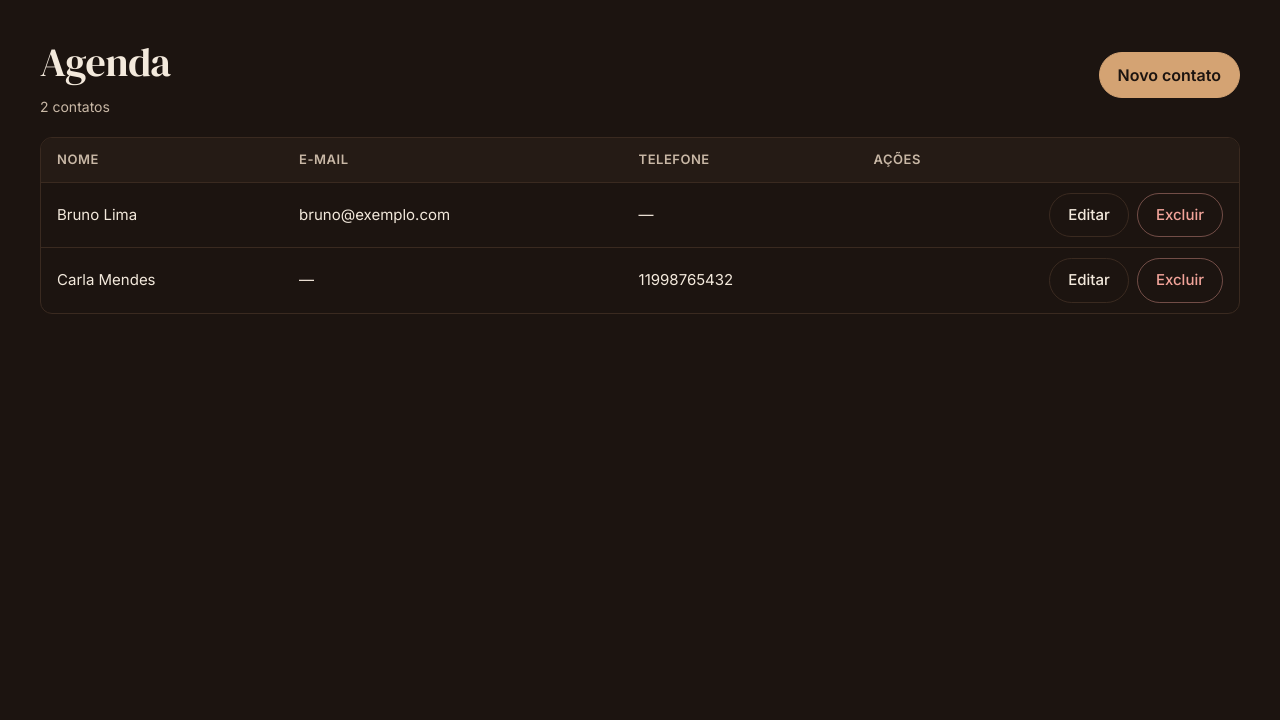
Test: ContactsPage › ContactsPage_ReopenAfterError_StartsClean
This screenshot has width=1280, height=720.
Expected: the table is shown, [41,138,1239,312]
Click the button "Novo contato" at (1169, 74), box [1098,52,1240,98]
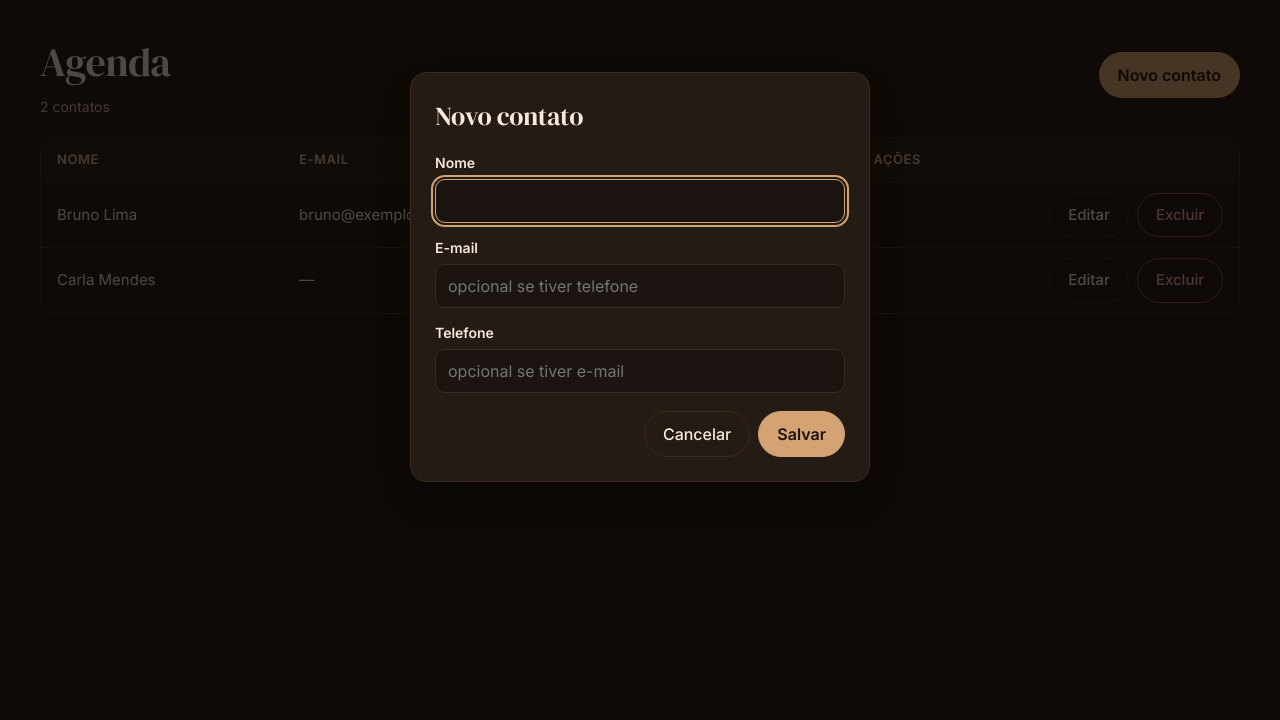
Type "Outro Bruno" into the field labelled "Nome" at (640, 201), box [435,179,845,223]
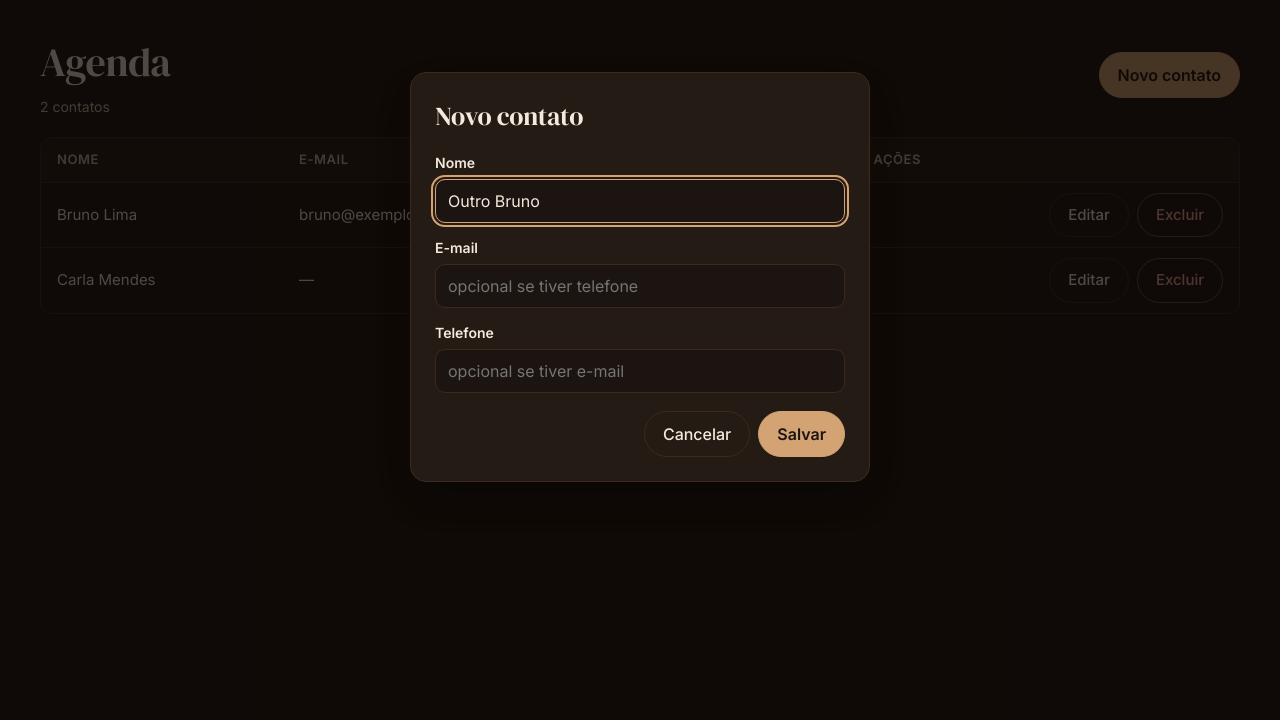
Type "bruno@exemplo.com" into the field labelled "E-mail" at (640, 286), box [435,264,845,308]
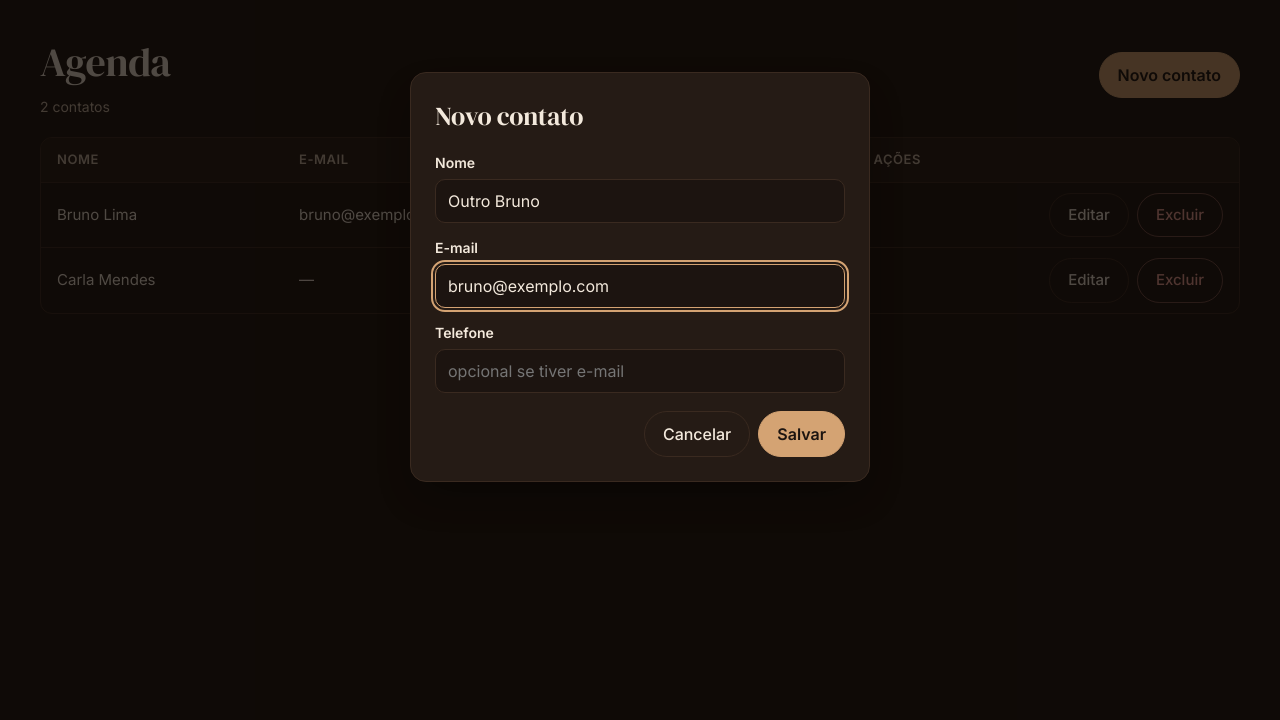
Click the button "Salvar" at (802, 434), box [758,411,845,457]
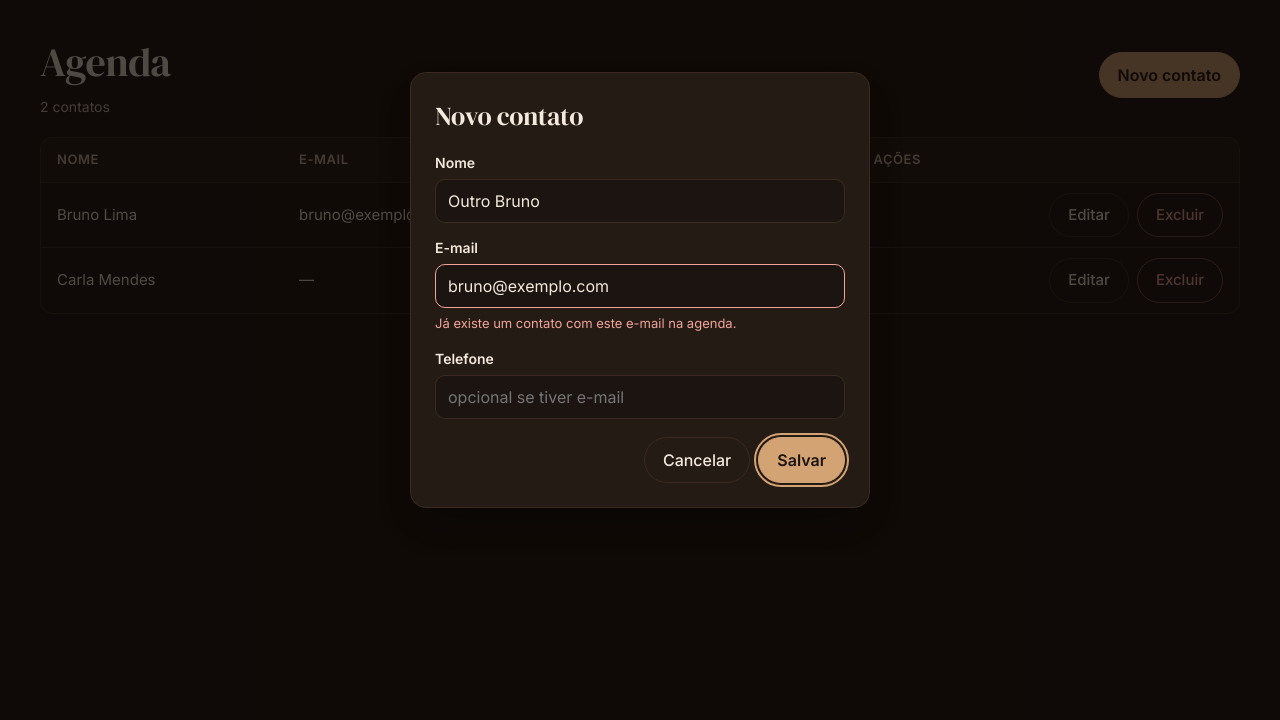
Result: the text "Já existe um contato com este e-mail na agenda." is shown at [435,315,736,331]
Click the button "Cancelar" at (697, 460), box [644,436,750,482]
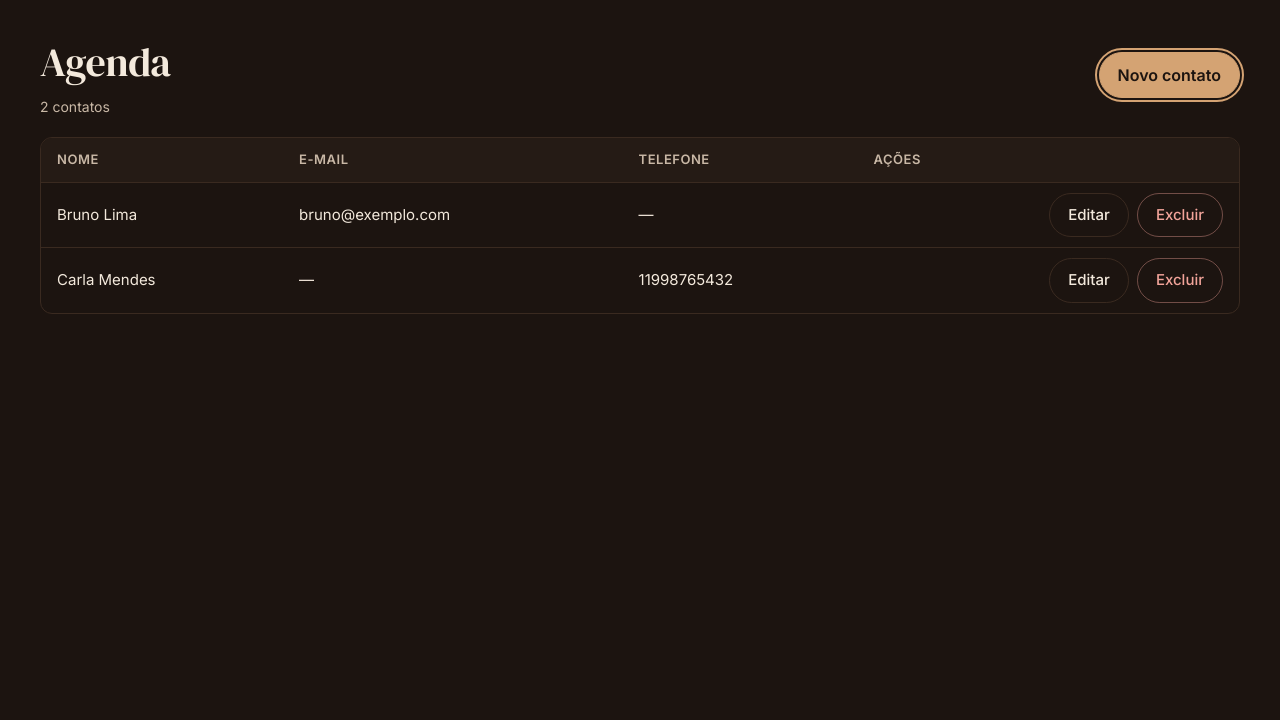
Click the button "Novo contato" at (1169, 74), box [1098,52,1240,98]
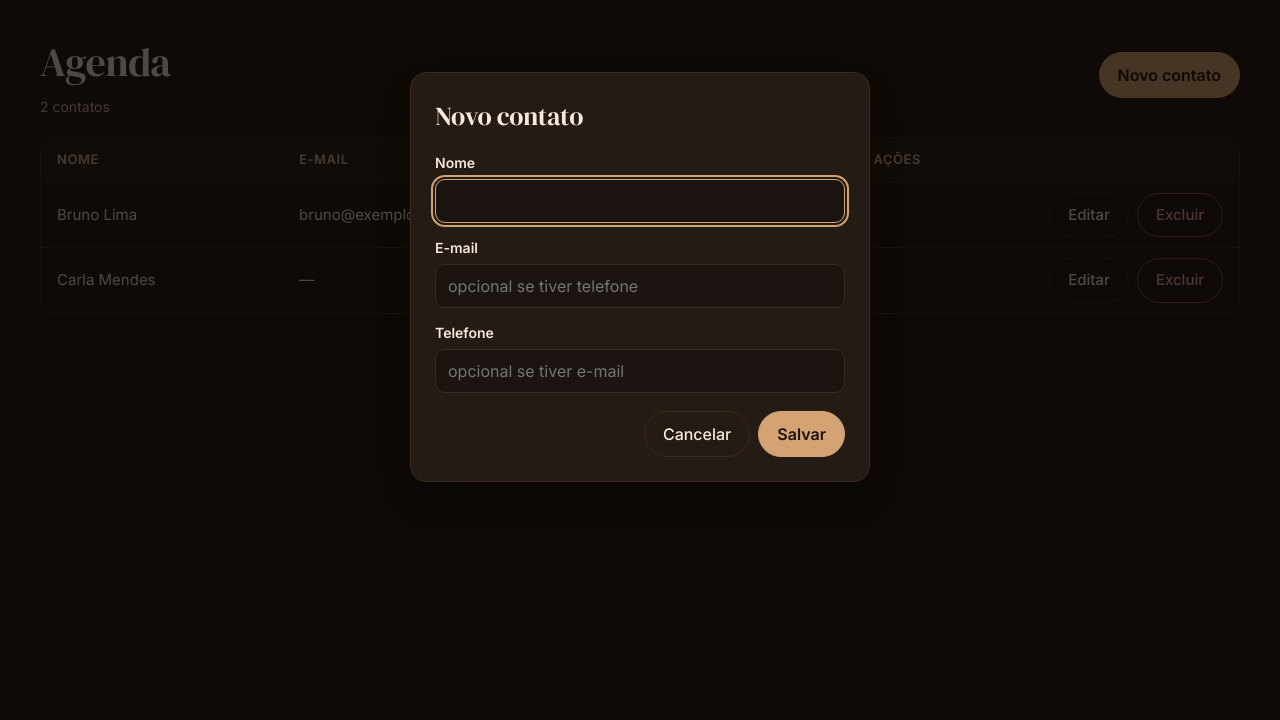
Expected: the text "Já existe um contato com este e-mail na agenda." is not shown
Result: the field labelled "Nome" is empty at [435,179,845,223]
